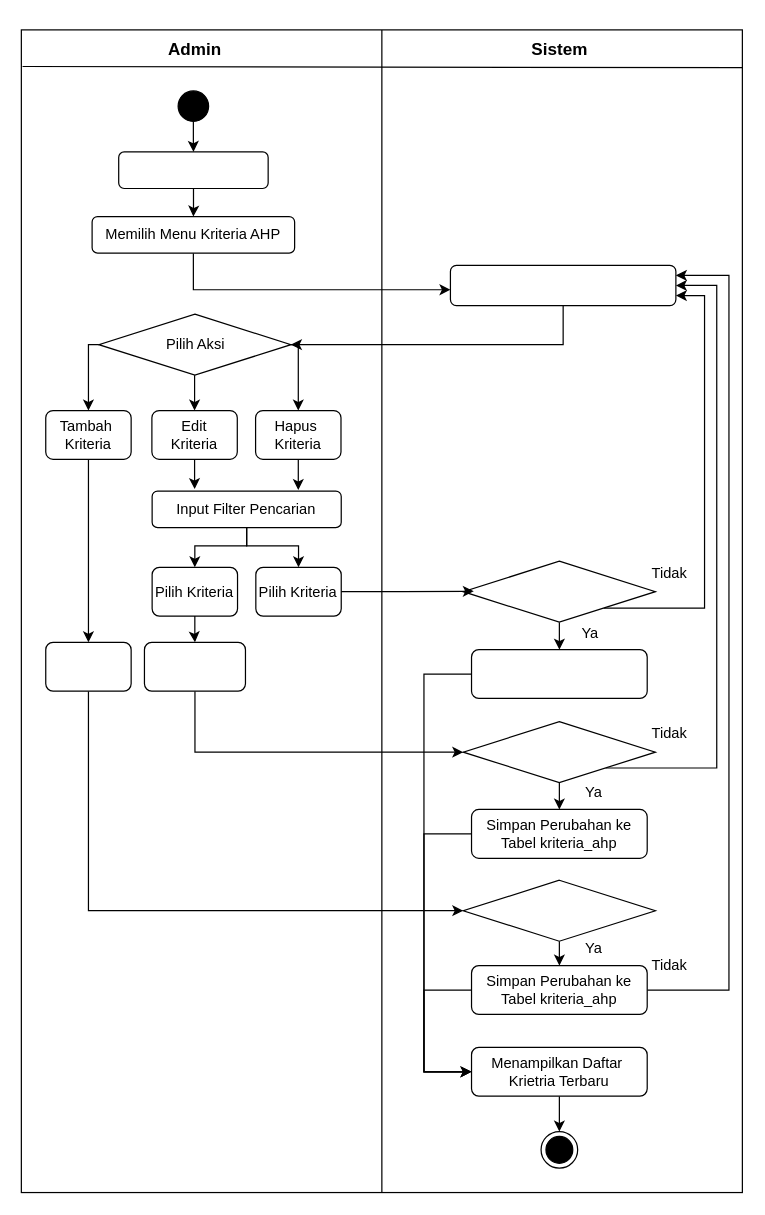
Image size: 765x1215. Some labels were removed from this diagram. Each missing label, with the box of its shape:
Konfirmasi Hapus?: (462, 560, 655, 622)
Login ke Sistem: (117, 151, 268, 188)
Memperbarui Data Kriteria: (143, 641, 245, 691)
Menampilkan Daftar Kriteria: (449, 264, 676, 306)
Menghapus Data Kriteria dari Tabel kriteria_ahp: (470, 648, 647, 698)
Mengisi Data Kriteria: (45, 641, 131, 691)
Validasi Input?: (462, 879, 655, 941)
Validasi Perubahan?: (462, 720, 655, 783)
